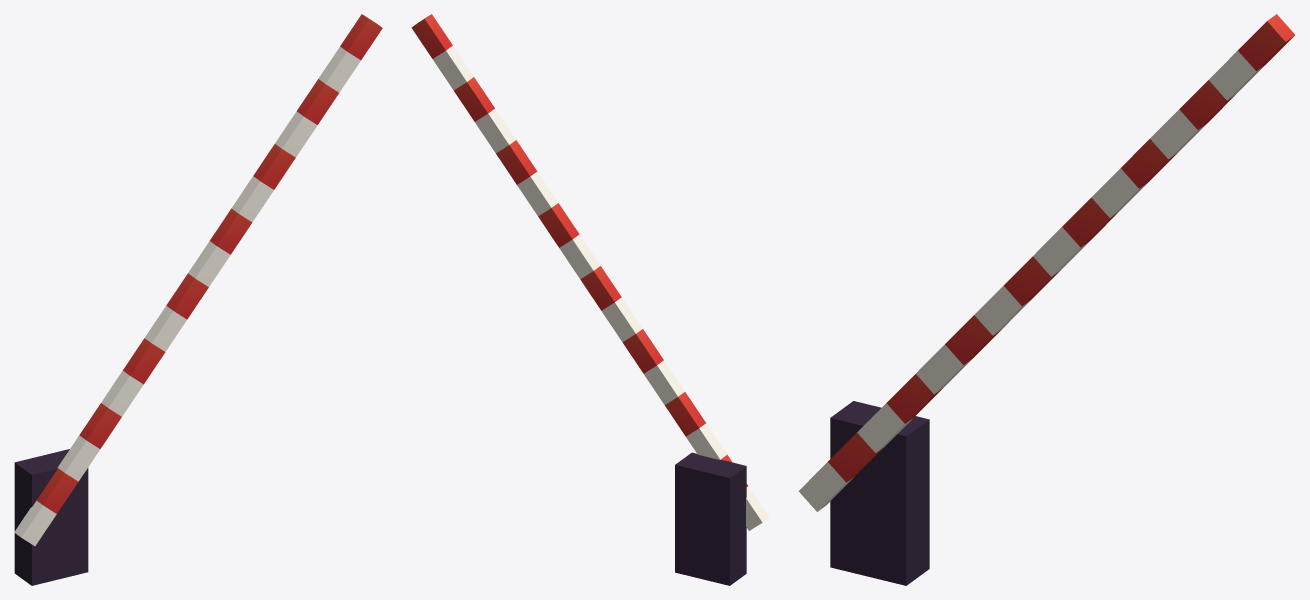
The model's file is barie1.fbx.
3 renders of one model, left to right at view 1: azimuth 30°, elevation 25°; view 2: azimuth 150°, elevation 25°; view 3: azimuth 330°, elevation 25°, orthographic. The views are drawn at different scales.
Visible parts, largest first — view 1: barie1; view 2: barie1; view 3: barie1.
Boxes of the visible parts, box(x1,y1,x2,y2) form: barie1: box(14, 14, 382, 585); barie1: box(411, 14, 769, 585); barie1: box(798, 14, 1294, 585).
Size of the model in its own units: 88.28 by 115 by 10.06.
